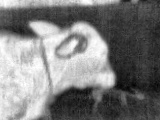eye: (100, 47, 111, 60)
